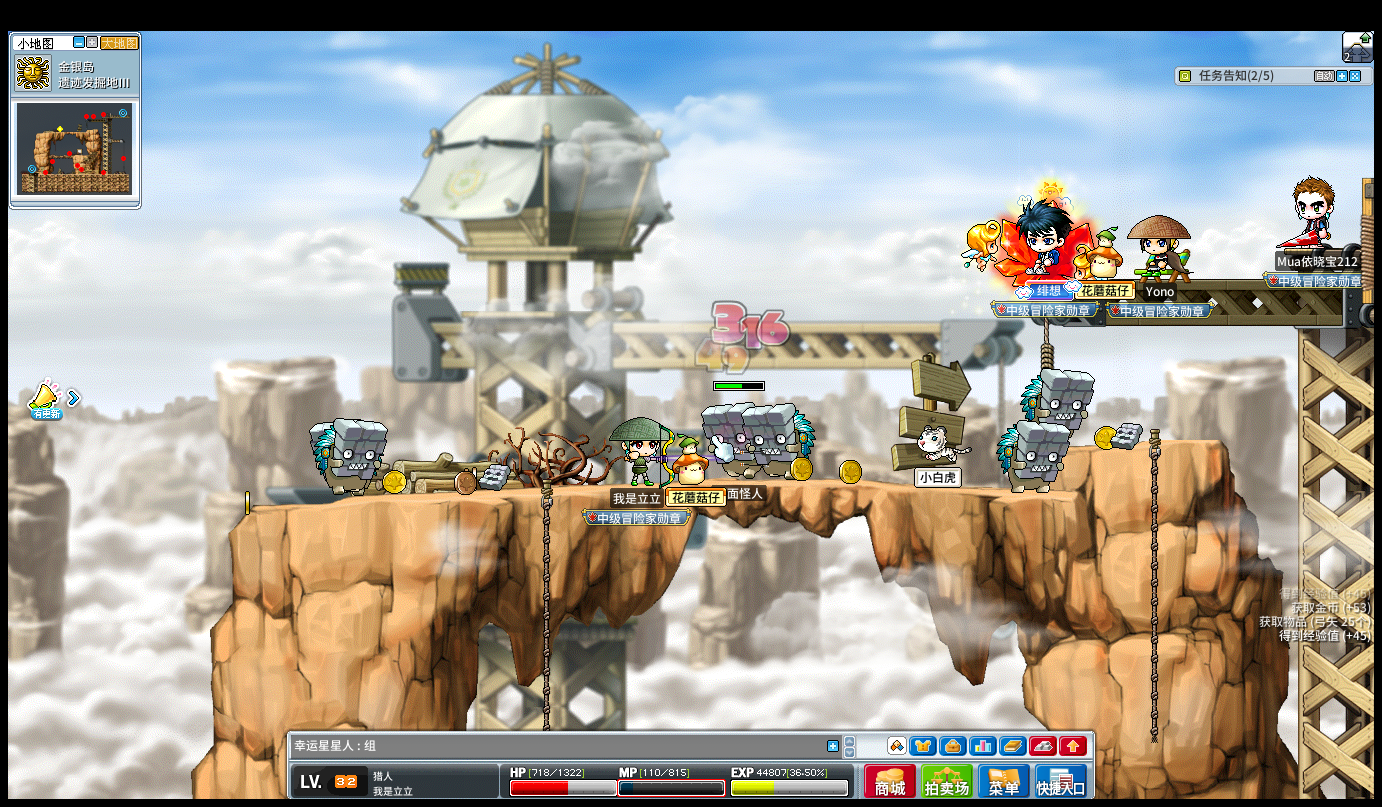floor: (231, 475, 1118, 506), (236, 474, 1134, 497), (1078, 435, 1224, 451)
monster: (310, 416, 389, 499), (744, 401, 815, 482), (996, 420, 1069, 495), (1020, 367, 1094, 432), (699, 402, 753, 476)
rope: (1145, 426, 1161, 749), (538, 474, 551, 747), (540, 476, 552, 683)
